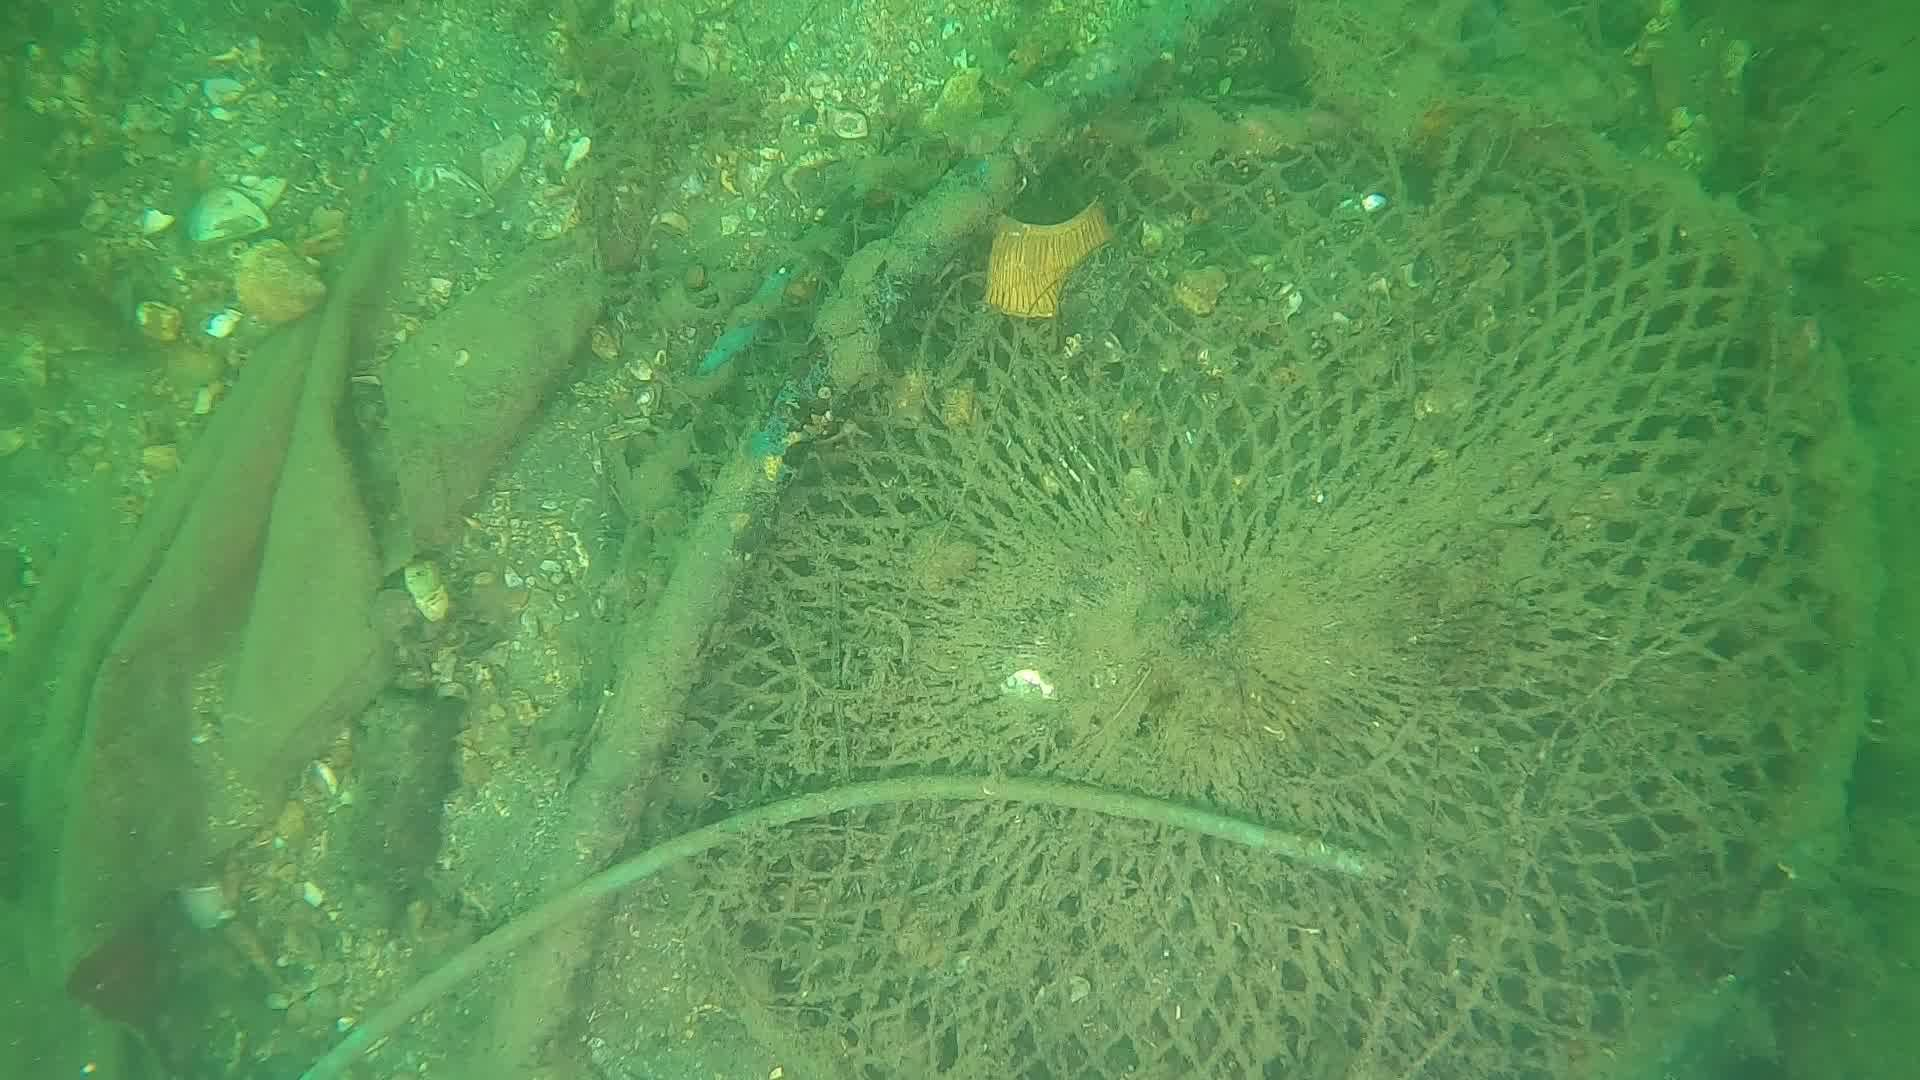circular fish trap: (662, 105, 1878, 1080)
